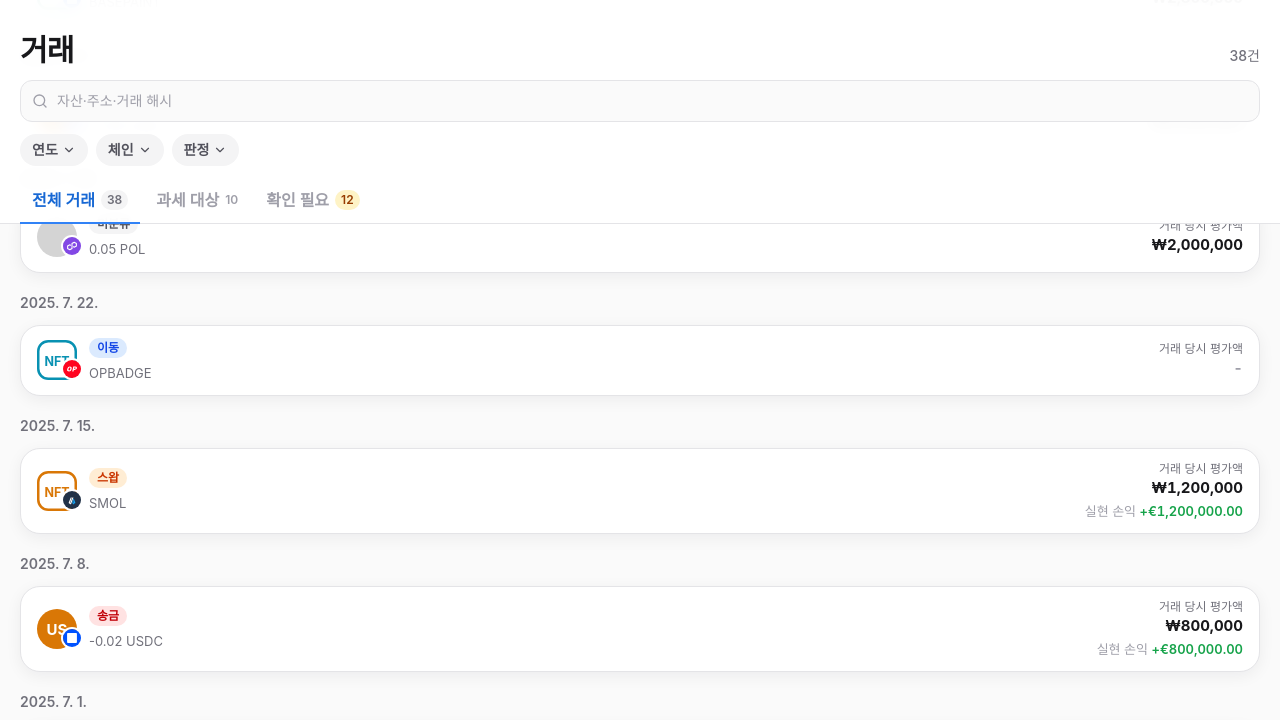
Test case: 판정도 제외도 아닌 거래가 침묵하지 않는다 › 자기 지갑 간 이체는 처분이 아님을 상세에서 밝힌다
(page scrolled)
Click the button "NFT 이동 OPBADGE 거래 당시 평가액 -". click: x=57, y=360
box: [20, 324, 1260, 396]
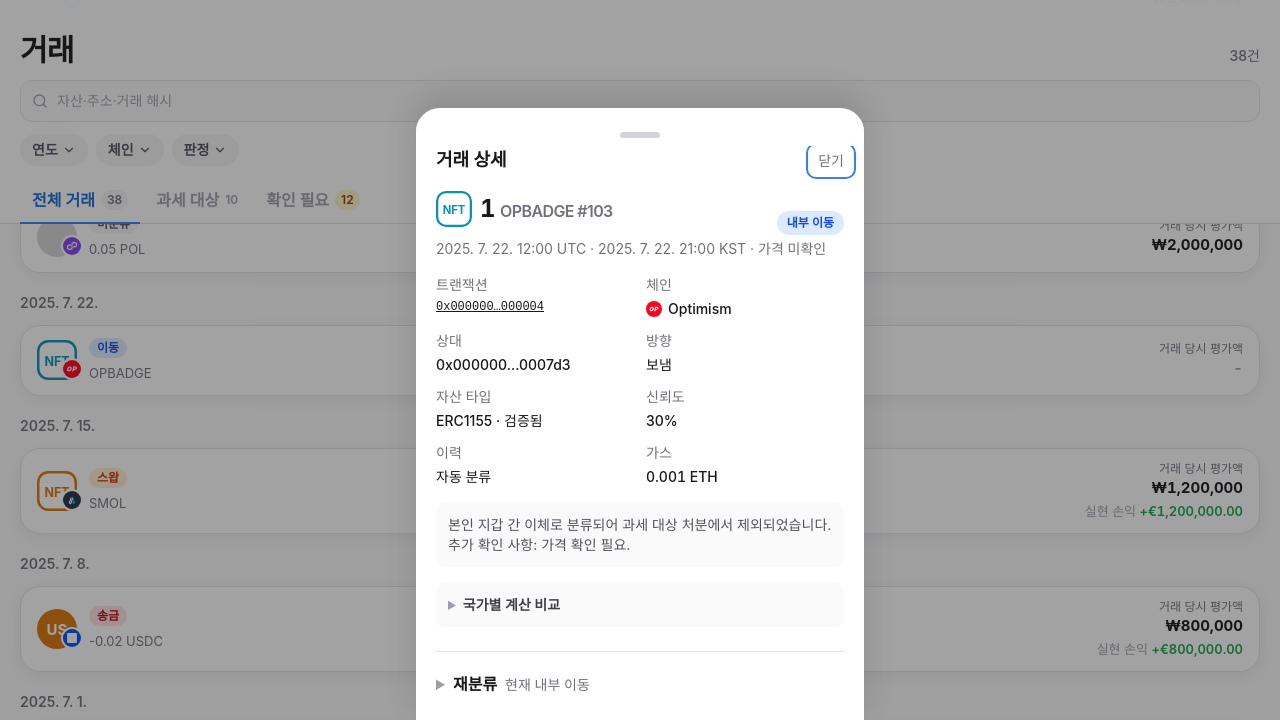
Expected: the heading "거래 상세" is shown, [436, 146, 506, 174]
